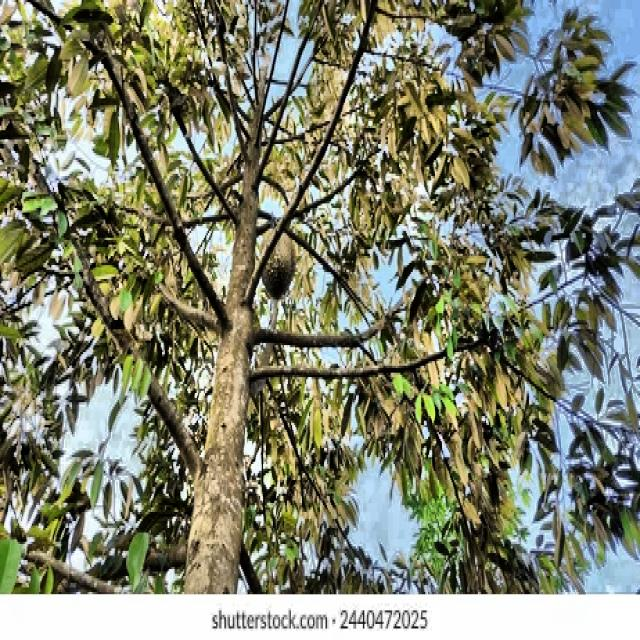arvore: (167, 45, 298, 582)
